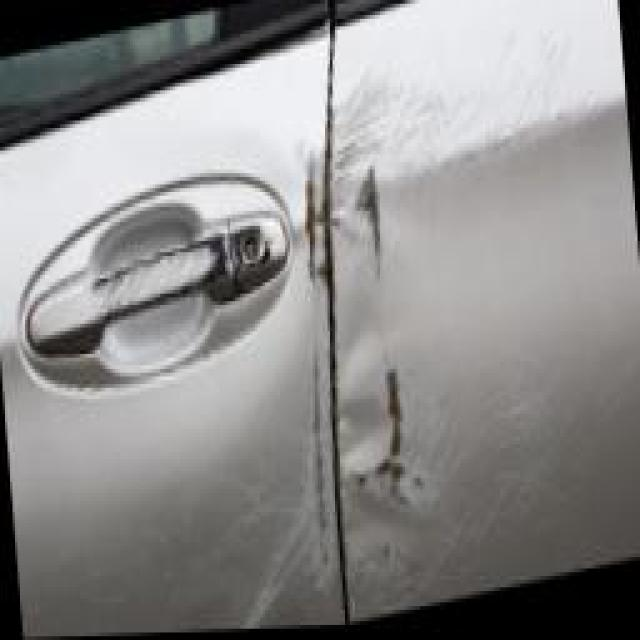Door: (11, 40, 350, 636), (330, 0, 640, 616)
